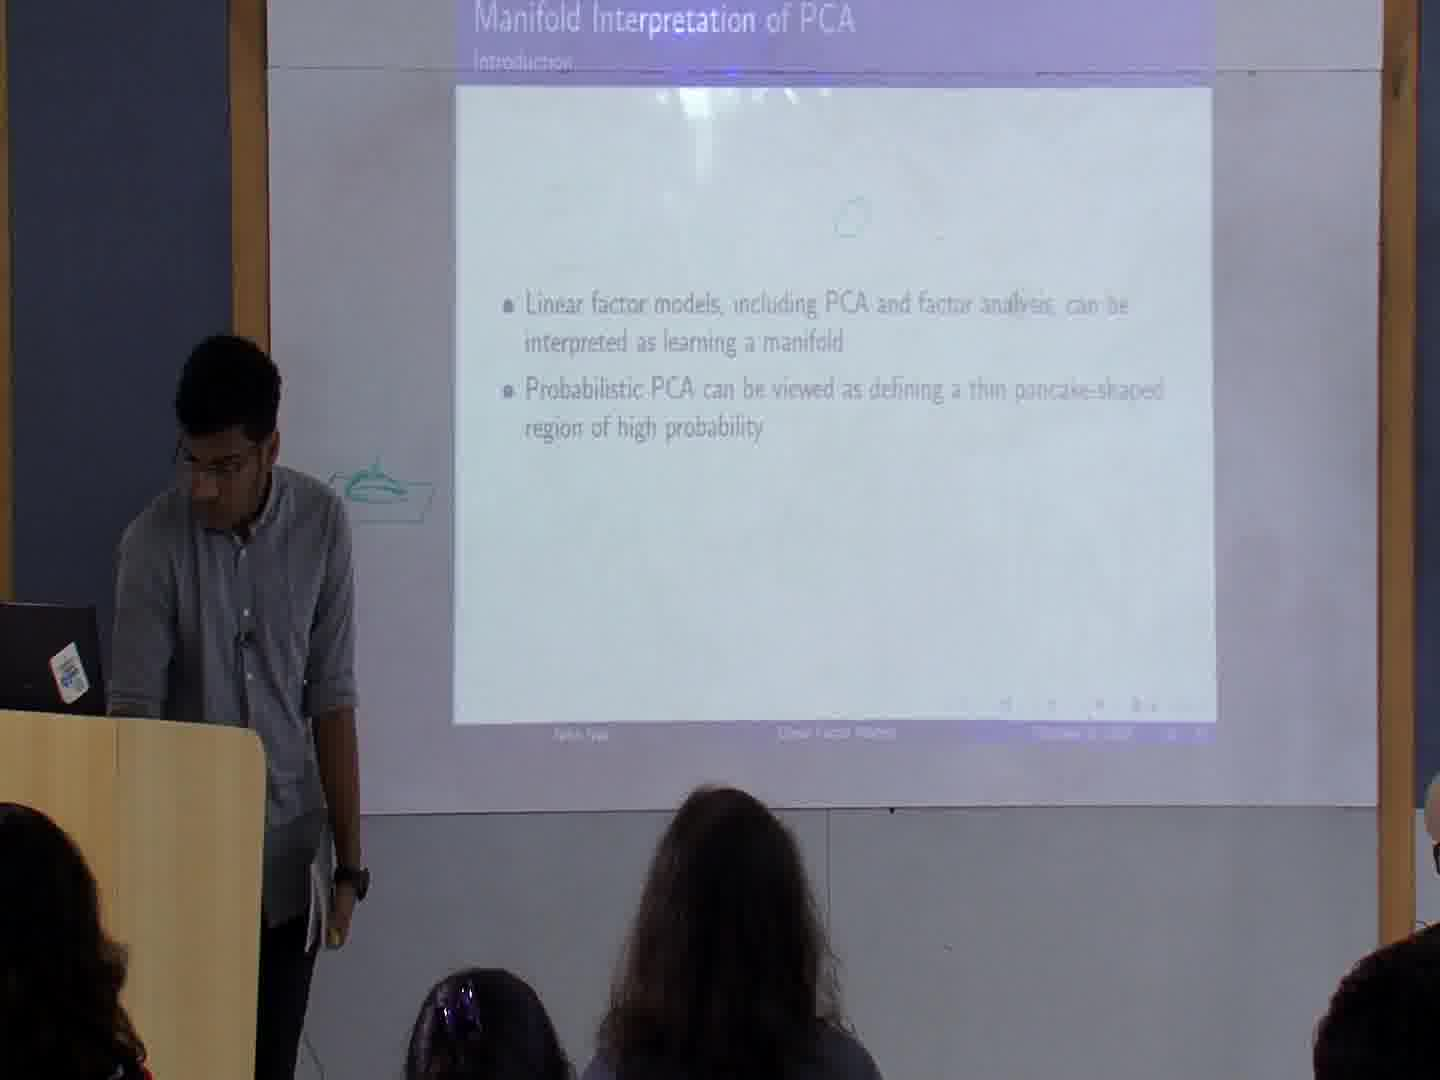slide: (454, 1, 1220, 744)
